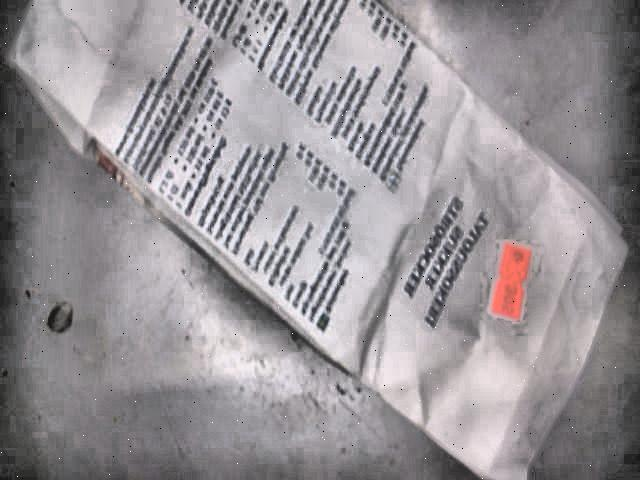Paper: (8, 0, 631, 480)
